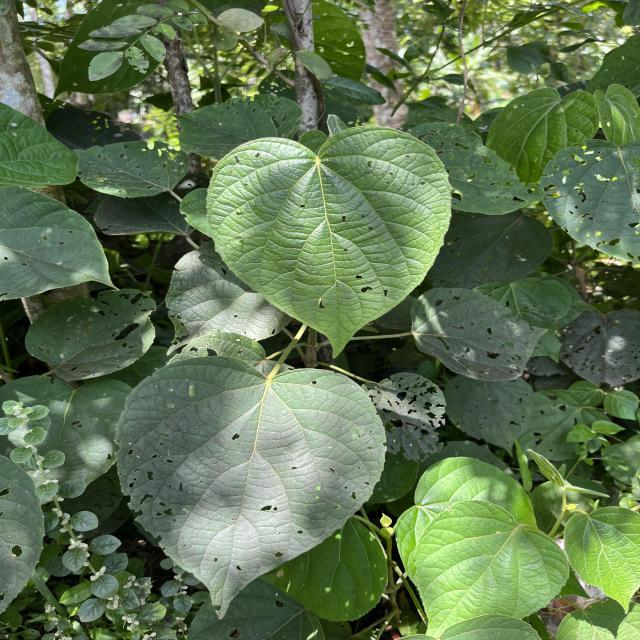Clerodendrum infortunatum: (112, 354, 390, 622), (204, 123, 457, 361), (412, 498, 572, 638)
